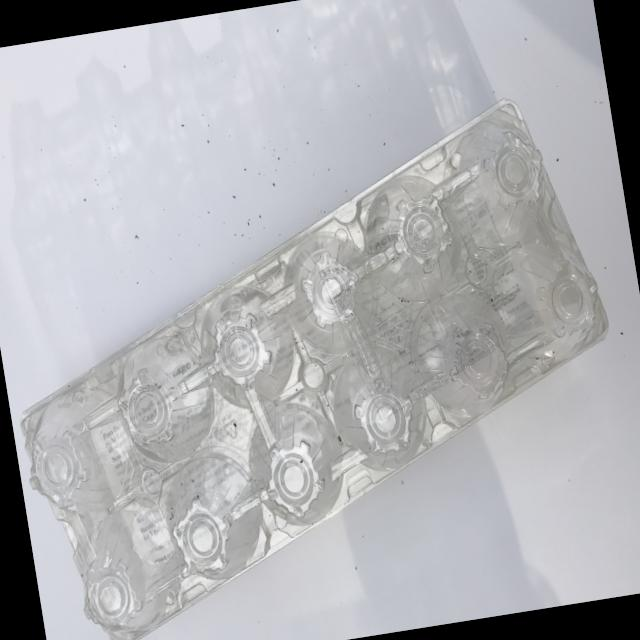Plastic: (0, 47, 640, 640)
